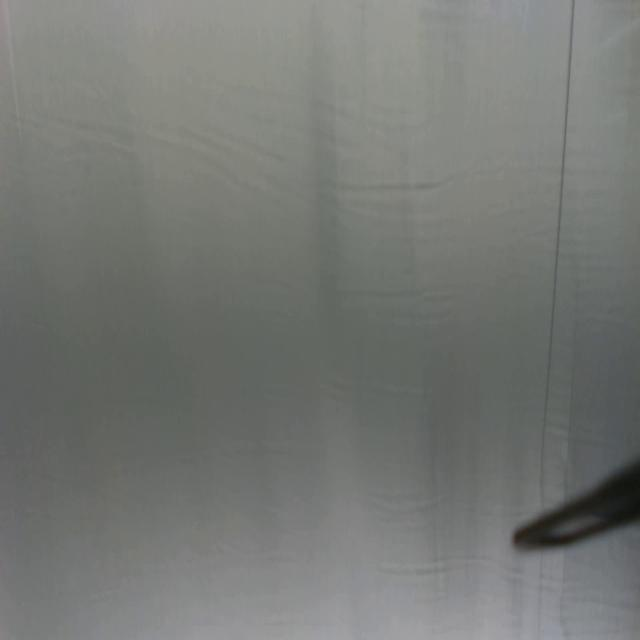crease: (538, 1, 576, 493)
